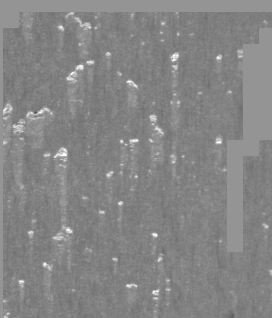oxl: (35, 10, 237, 308)
